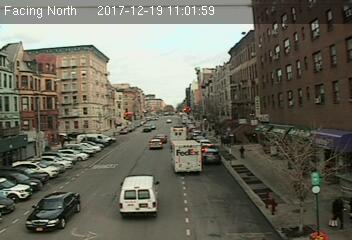car: (25, 192, 82, 231), (203, 148, 221, 162), (148, 139, 163, 149)
truck: (119, 175, 161, 217), (171, 140, 203, 176), (170, 126, 187, 145)
